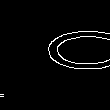O_W: (4, 32, 106, 78)
